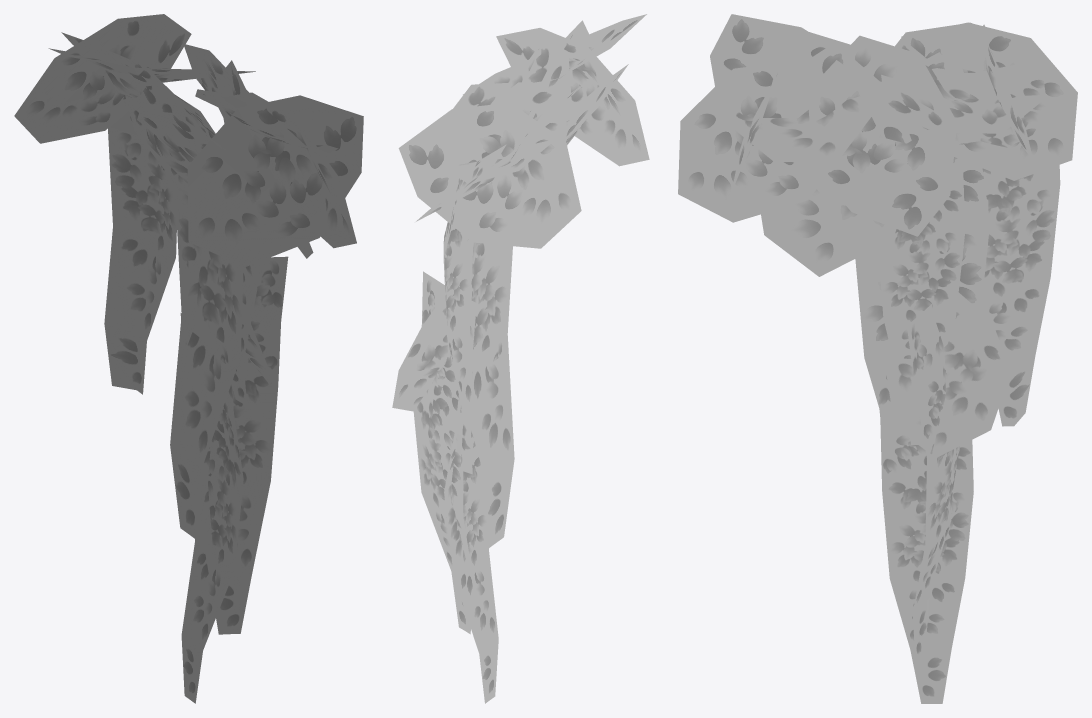
File: SM_Vines_Tall_01.fbx
The picture shows the model from 3 angles, left to right: view 1: azimuth 30°, elevation 25°; view 2: azimuth 150°, elevation 25°; view 3: azimuth 270°, elevation 25°; orthographic projection. The views are drawn at different scales.
Parts seen in each view (by area): view 1: Vines_Tall_01_LOD0; view 2: Vines_Tall_01_LOD0; view 3: Vines_Tall_01_LOD0.
Boxes of the visible parts, bbox=[...] form: Vines_Tall_01_LOD0: bbox=[14, 14, 363, 703]; Vines_Tall_01_LOD0: bbox=[392, 14, 649, 703]; Vines_Tall_01_LOD0: bbox=[678, 14, 1077, 703].
Size of what is drawn, in the model's own units: 1.96 by 5.68 by 3.12.
